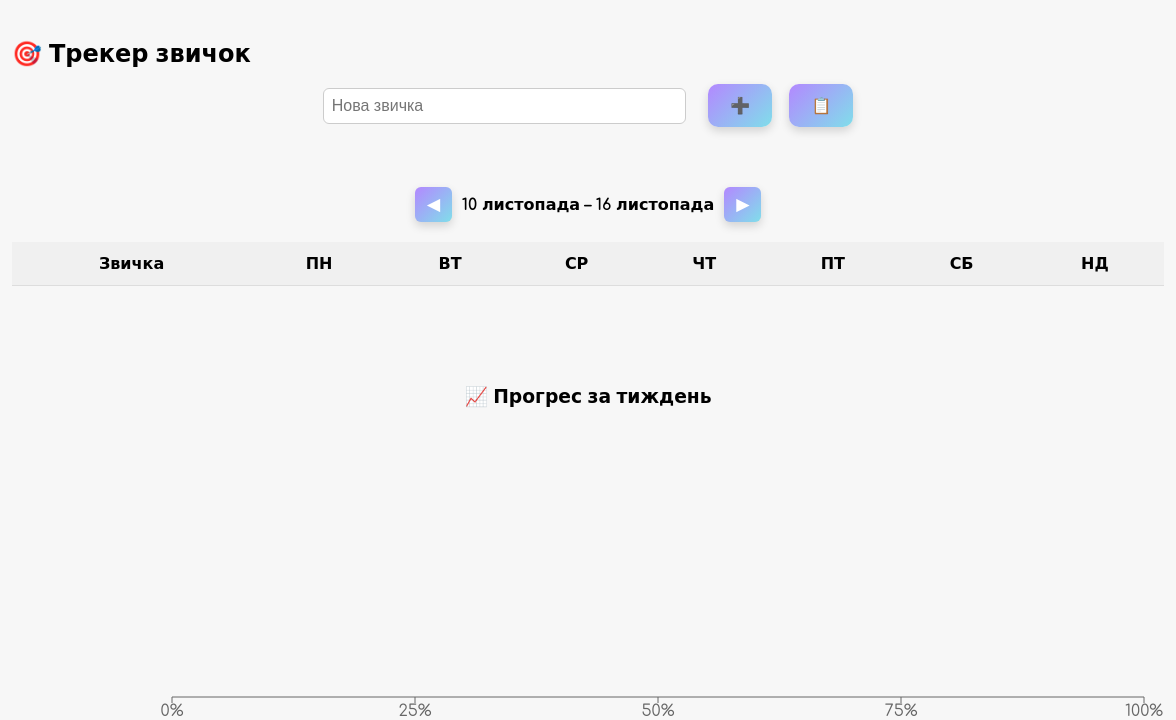
Test case: додає нову звичку і показує її в таблиці
Type "Тестова звичка" into the field with placeholder "Нова звичка".
click(504, 106); type("Тестова звичка")  # box 323,88 -> 686,124
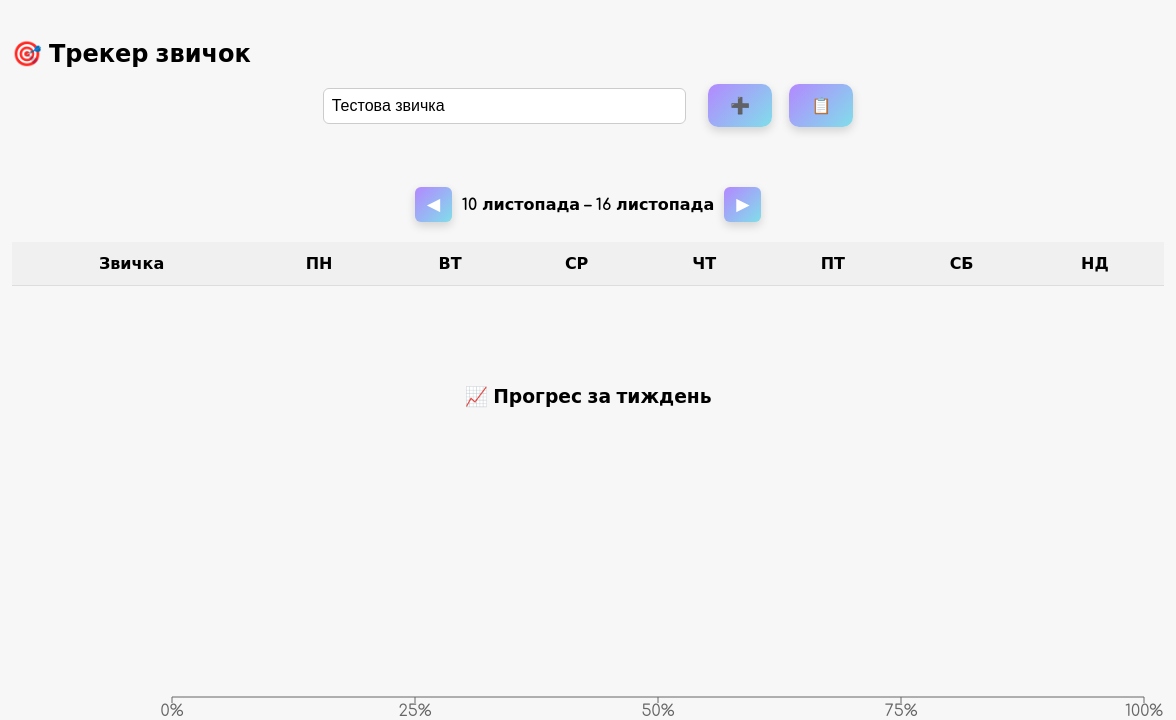
Click the button "➕".
click(740, 106)  # box 708,84 -> 772,127
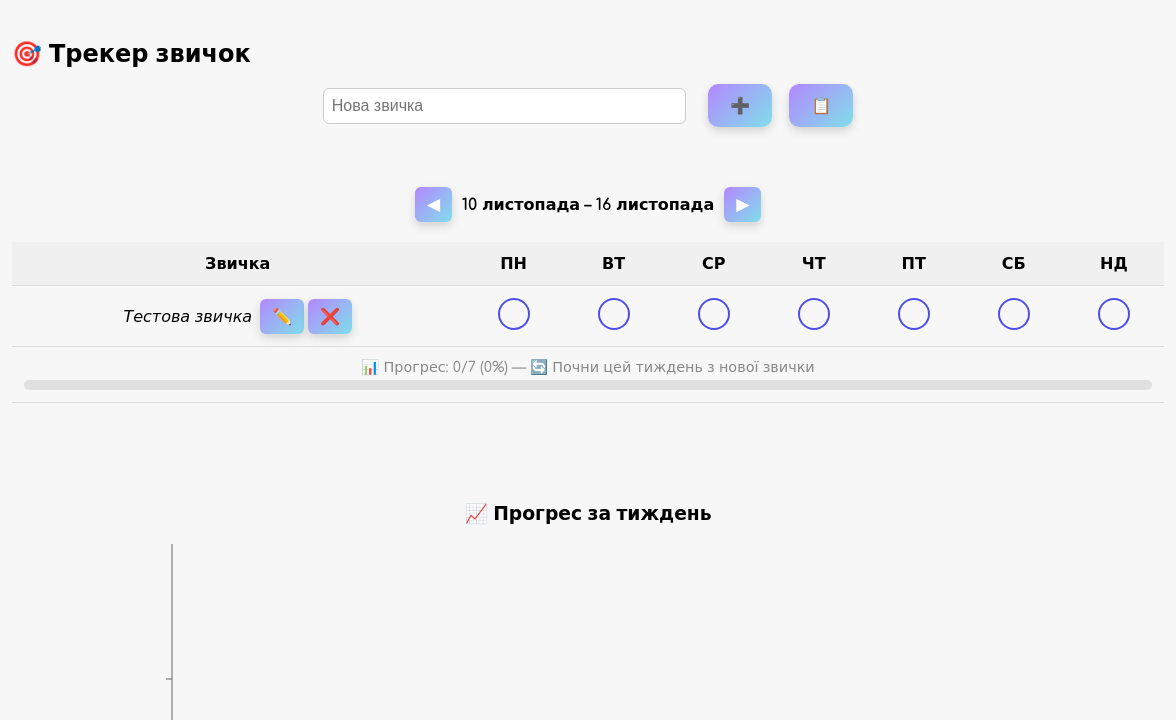
Expected: the text "Тестова звичка" is shown, 123,308 -> 252,326
